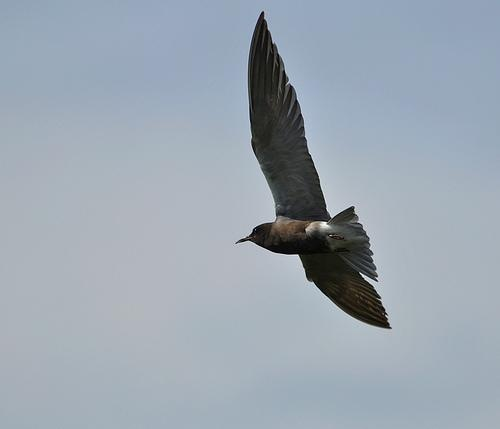bird: (234, 9, 397, 332)
